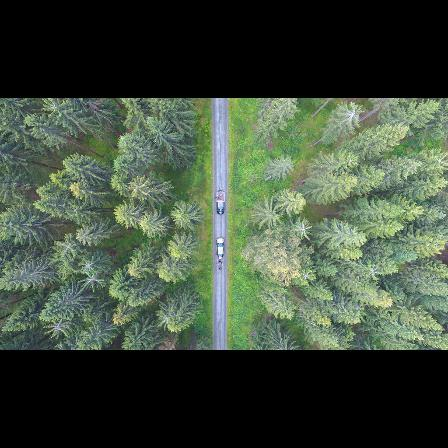Sick: (52, 235, 84, 262), (78, 269, 108, 295), (46, 315, 71, 343), (292, 219, 315, 241), (343, 101, 363, 126), (295, 265, 316, 286), (364, 262, 383, 284), (77, 256, 99, 274)
